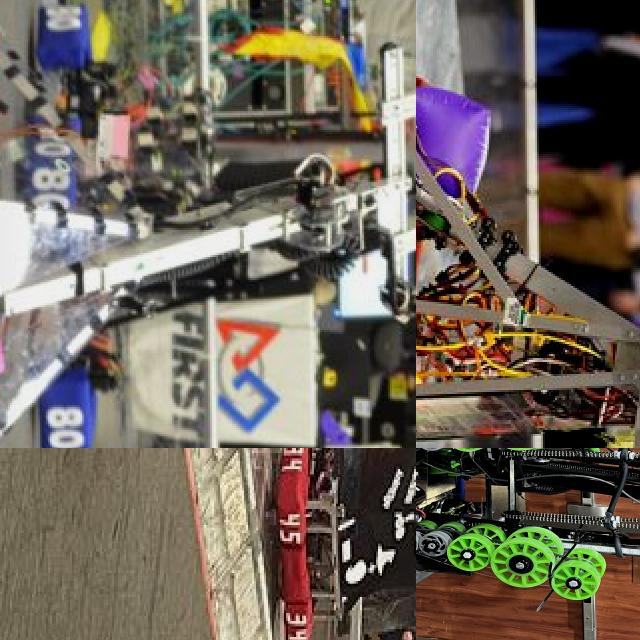FRC-Robots: (0, 0, 416, 448), (416, 1, 640, 448), (416, 448, 640, 640), (261, 448, 416, 640)
